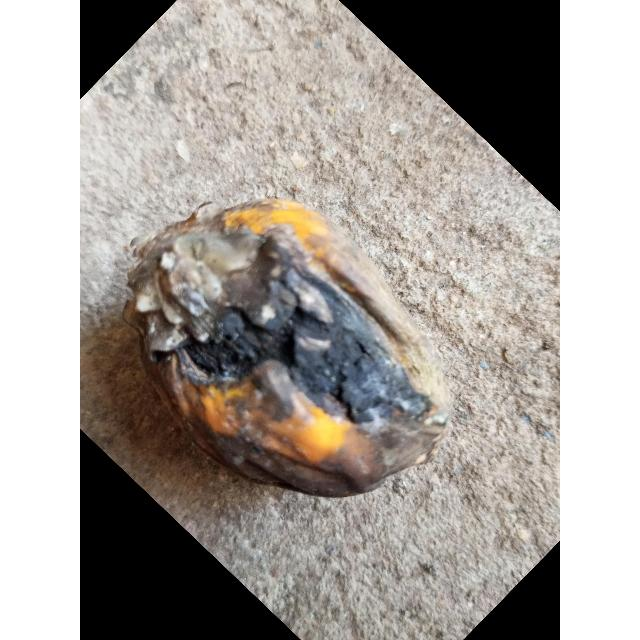damaged: (124, 198, 450, 497)
